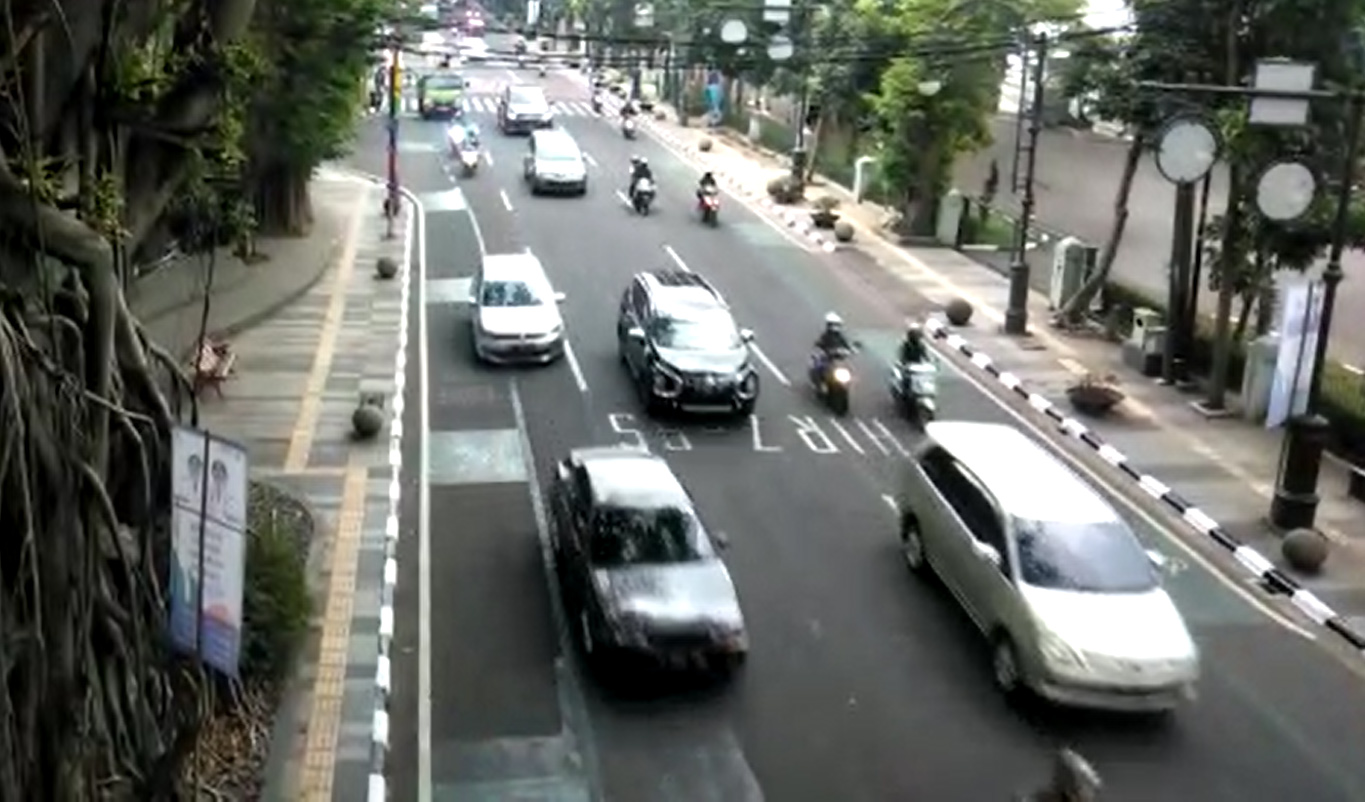mobil: (882, 408, 1213, 732), (536, 436, 764, 699), (611, 265, 772, 429), (461, 245, 578, 375), (518, 125, 597, 206)
motor: (791, 304, 869, 427), (882, 325, 953, 438), (684, 163, 732, 234), (619, 152, 668, 219)
